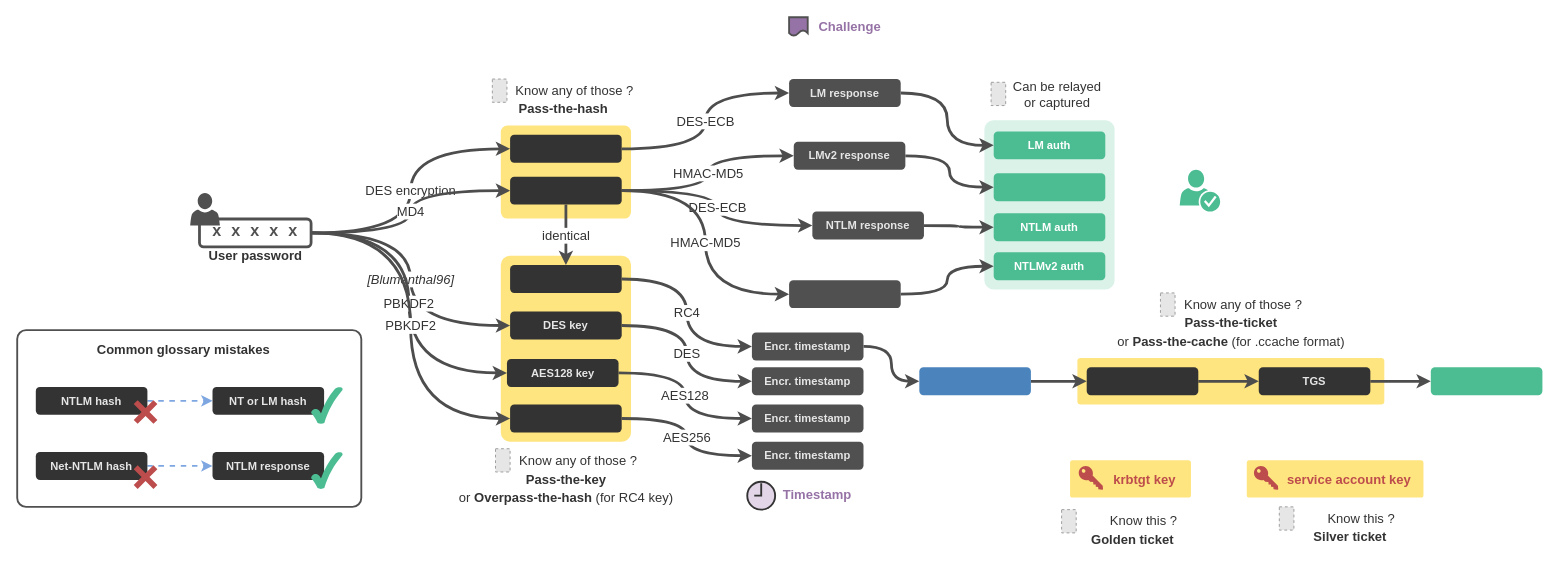
The diagram is 1558 pixels wide and 565 high, and some of its shapes have lost their labels. Grey dashed boxes stand in for pictures. Here are the shapes that lost their labels. From the top down, the centre of each, then its label:
At (x=565, y=148): "LM hash".
At (x=565, y=190): "NT hash".
At (x=1049, y=187): "LMv2 auth".
At (x=565, y=278): "RC4 key".
At (x=844, y=294): "NTLMv2 response".
At (x=974, y=381): "Kerberos pre-auth".
At (x=1142, y=381): "TGT".
At (x=1486, y=381): "Kerberos auth".
At (x=565, y=418): "AES256 key".
